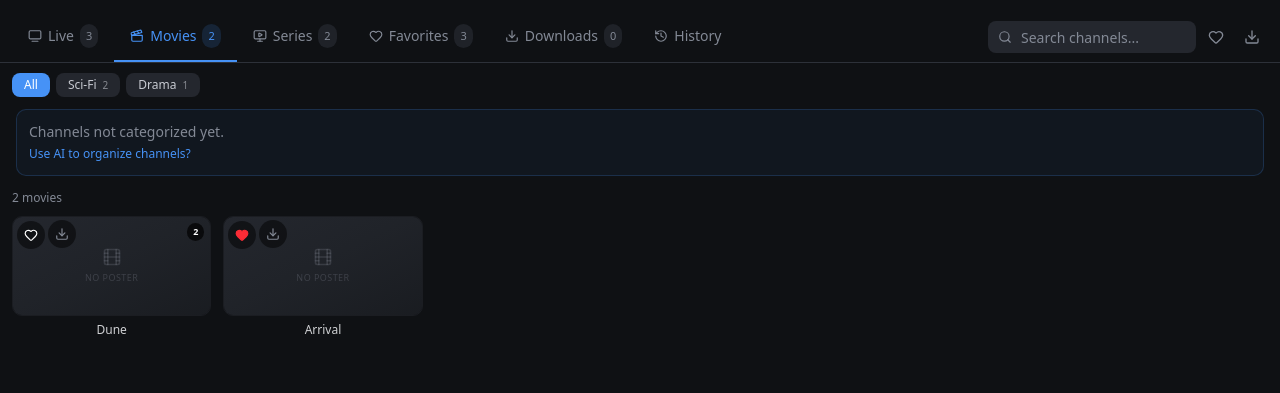
Test: ChannelList categories without a hierarchy › tells a filtered search that finds nothing about the category
Click the button "Drama1".
click(163, 85)  # box top-left (126, 73), bottom-right (200, 97)
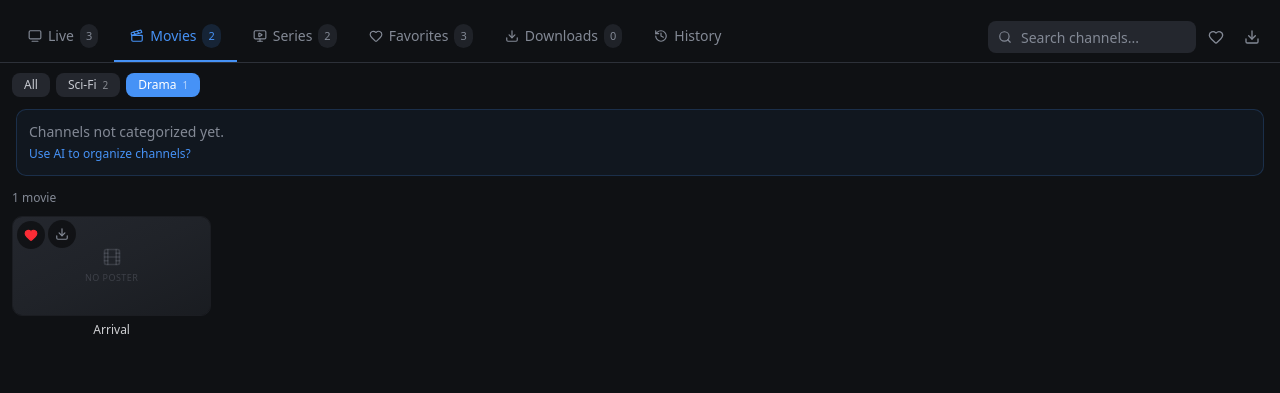
Type "dune" into the field with placeholder "Search channels...".
click(1092, 37); type("dune")  # box top-left (988, 21), bottom-right (1196, 53)
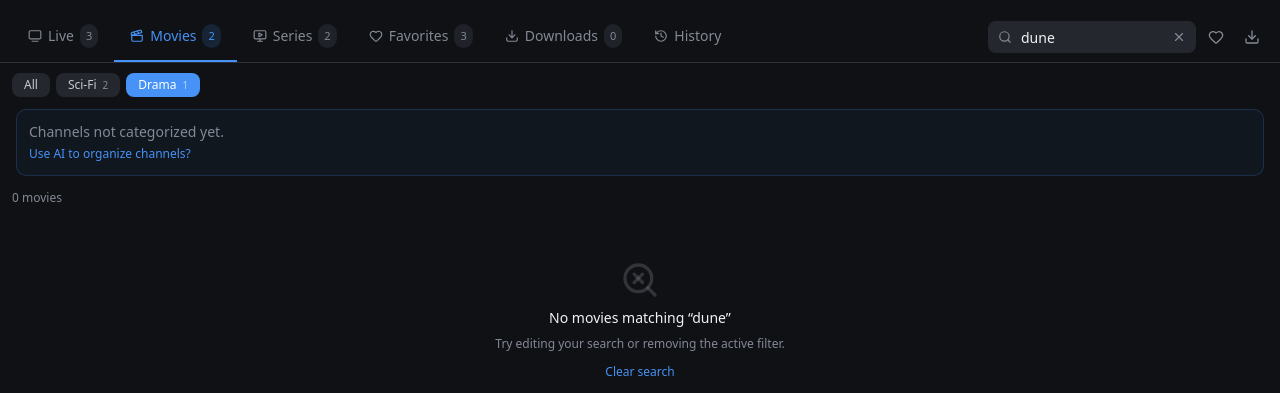
Check: the text "No movies matching “dune”" is shown, box top-left (549, 308), bottom-right (731, 328)
Check: the text "Try editing your search or removing the active filter." is shown, box top-left (495, 336), bottom-right (785, 352)
